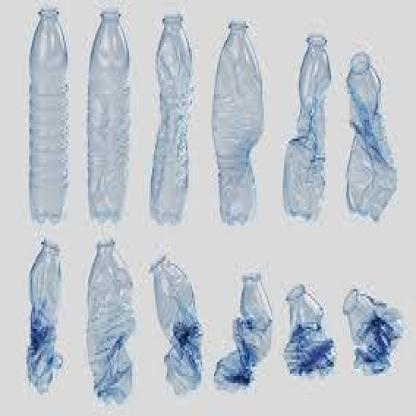Glass Bottle: (210, 15, 266, 231), (146, 10, 199, 233), (278, 26, 335, 233), (23, 5, 75, 226), (340, 40, 398, 235), (80, 235, 142, 412), (84, 4, 132, 228), (145, 248, 205, 396), (213, 258, 276, 398), (22, 238, 67, 394), (340, 275, 401, 382), (275, 273, 333, 383)
